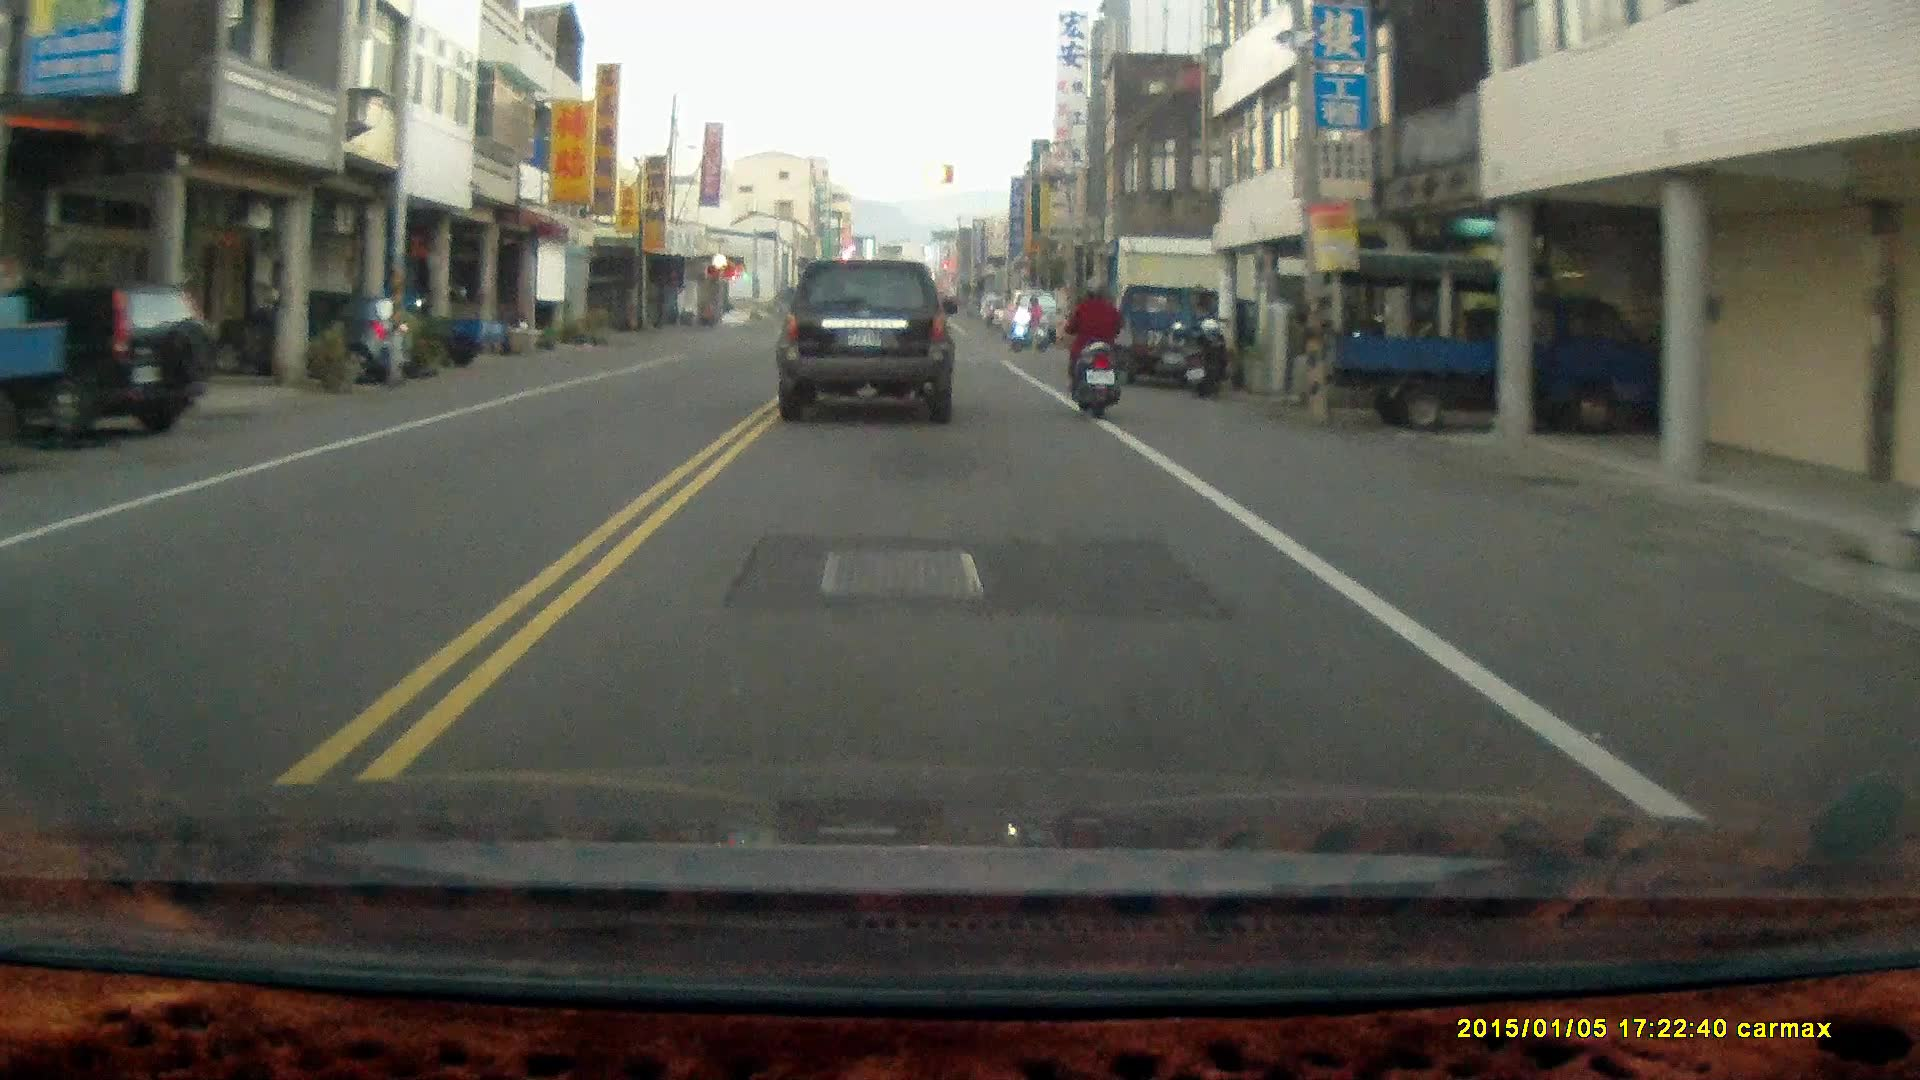rider: (1067, 270, 1122, 422), (1004, 293, 1045, 348)
vehicle: (1320, 248, 1662, 431), (0, 277, 218, 447), (776, 256, 957, 426), (211, 287, 412, 381), (1099, 273, 1226, 382)
